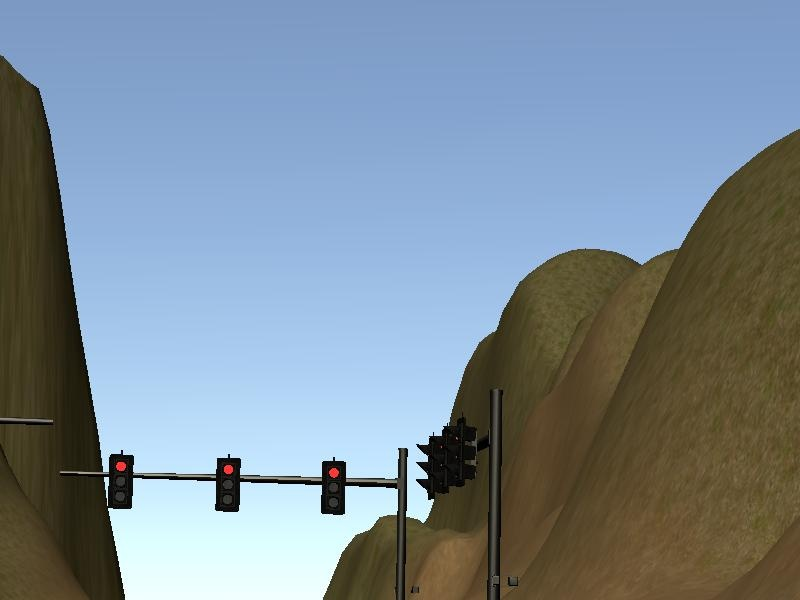Red: (107, 454, 132, 507), (321, 461, 346, 514), (216, 459, 241, 512)
